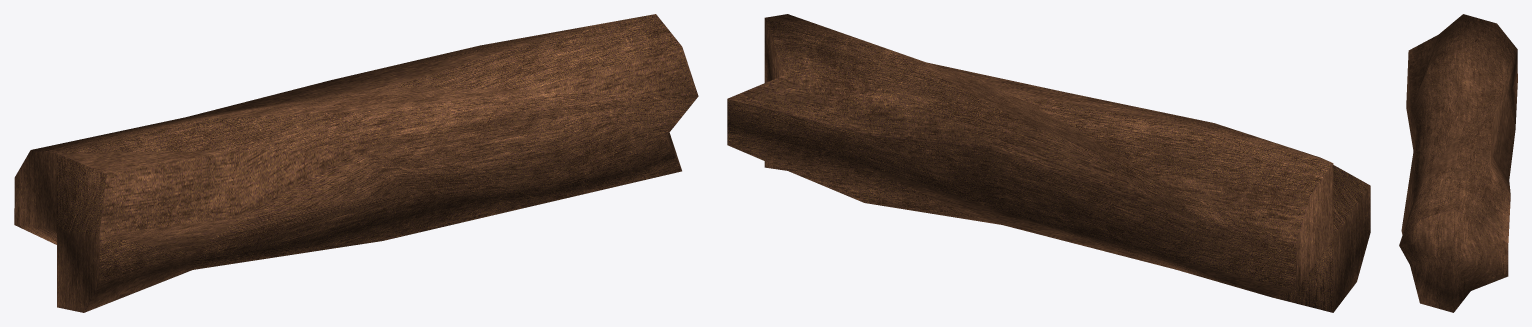
File: Tronco.fbx
The picture shows the model from 3 angles, left to right: view 1: azimuth 30°, elevation 25°; view 2: azimuth 150°, elevation 25°; view 3: azimuth 270°, elevation 25°; orthographic projection. The views are drawn at different scales.
Visible parts, largest first — view 1: Tronco; view 2: Tronco; view 3: Tronco.
Part boxes in pixels (x1,y1,x2,y2): Tronco: [14, 14, 698, 312]; Tronco: [727, 14, 1370, 312]; Tronco: [1399, 14, 1517, 312].
Size of the model in its own units: 30.13 by 7.44 by 7.71.
Materials: 1 (1 with a texture image).
